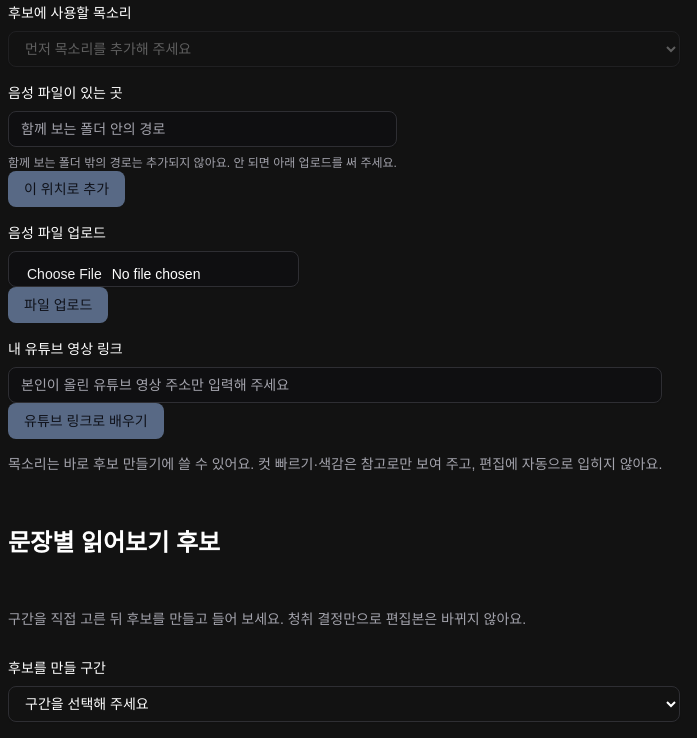
Test: VoiceTtsSettings › 유튜브 링크로 목소리를 가져오면 목록에 반영되고 컷 빠르기·색감을 보여준다
The image size is (697, 738).
(page scrolled)
Type "https://youtu.be/dQw4w9WgXcQ" into the field labelled "내 유튜브 영상 링크".
click(335, 385); type("https://youtu.be/dQw4w9WgXcQ")  # box [8,367,662,403]
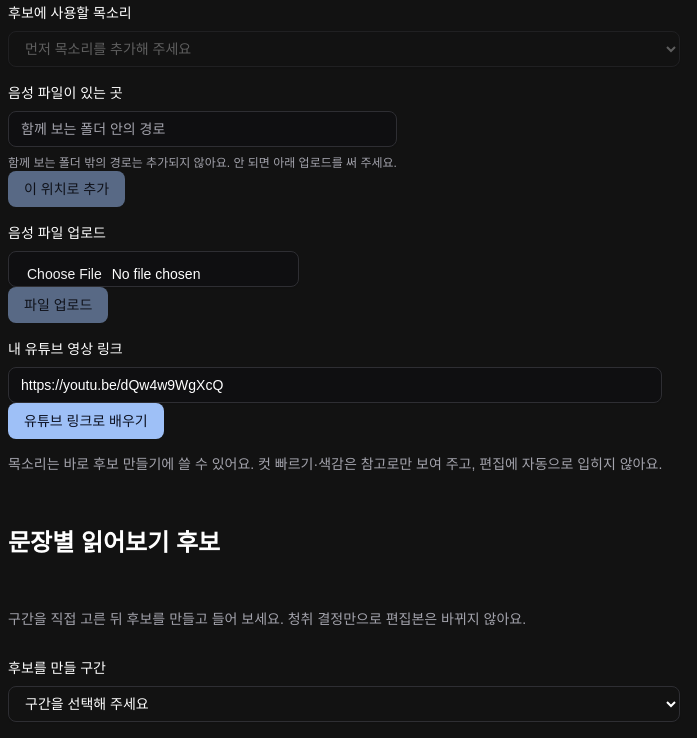
Click the button "유튜브 링크로 배우기".
click(86, 421)  # box [8,403,164,439]
(page scrolled)
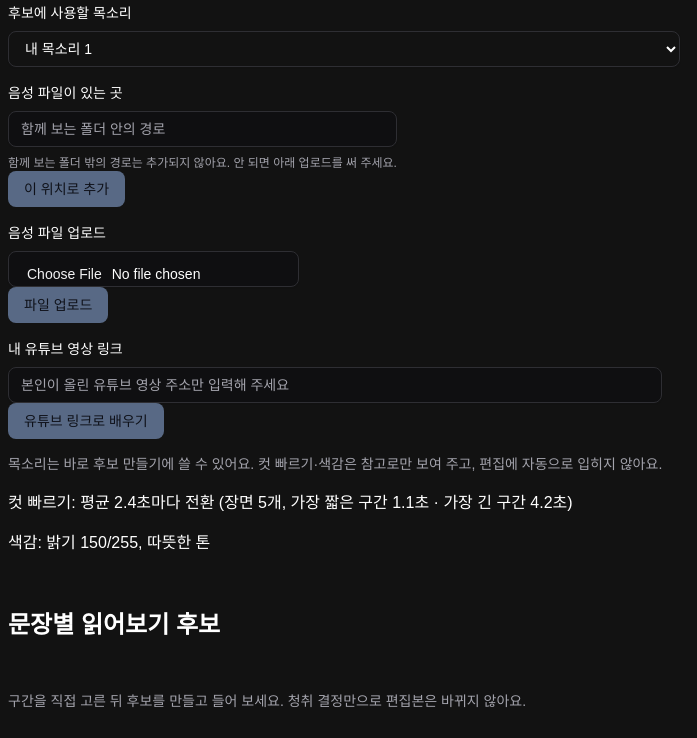
expect the text "컷 빠르기: 평균 2.4초마다 전환 (장면 5개, 가장 짧은 구간 1.1초 · 가장 긴 구간 4.2초)" is shown: met, box [8,489,662,513]
expect the text "색감: 밝기 150/255, 따뜻한 톤" is shown: met, box [8,534,210,551]
